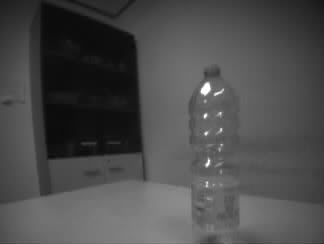Bottle: (186, 63, 242, 242)
